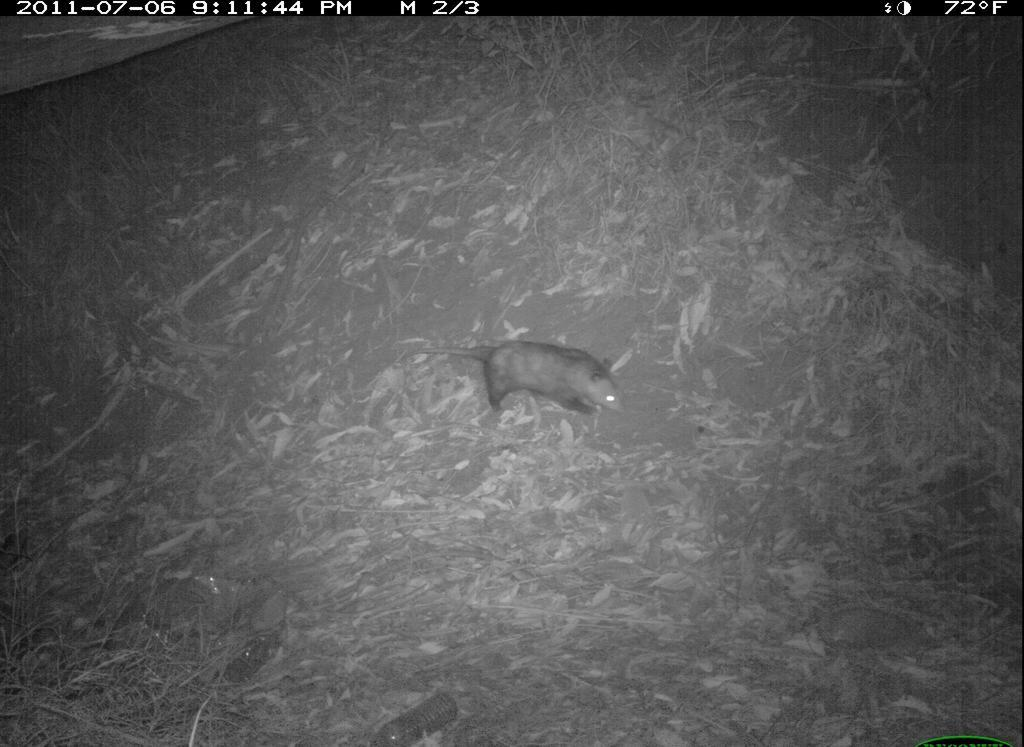opossum: (418, 333, 641, 431)
